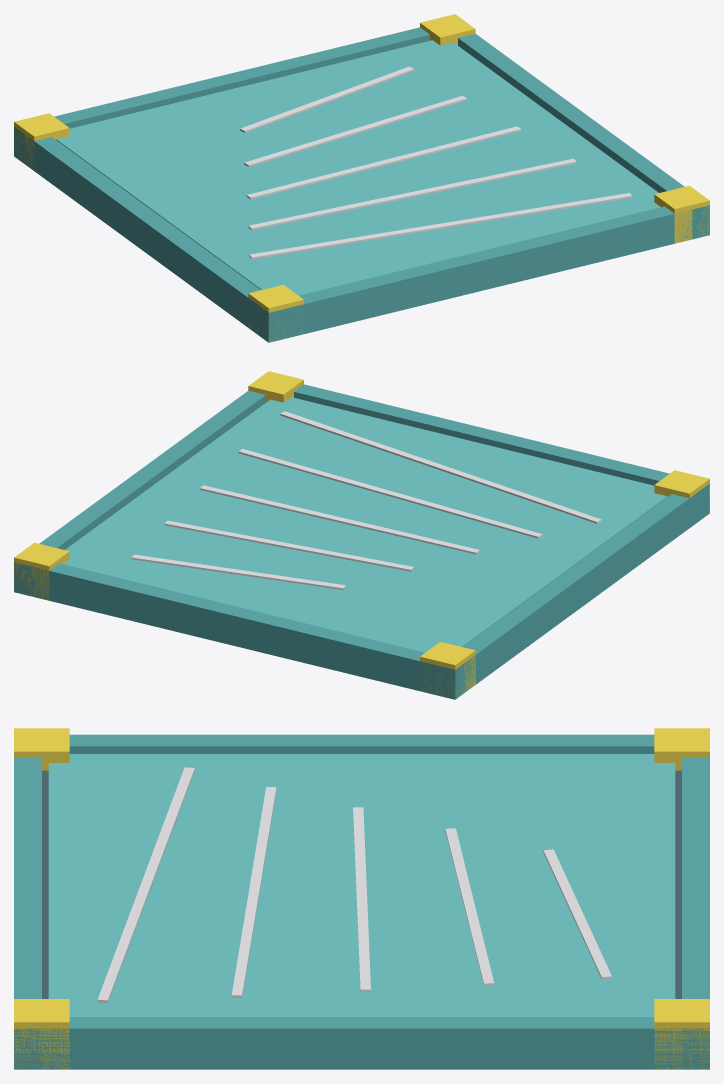
The model's file is ice_slide.glb.
3 renders of one model, top to bottom at view 1: azimuth 30°, elevation 25°; view 2: azimuth 150°, elevation 25°; view 3: azimuth 270°, elevation 25°, orthographic. The views are drawn at different scales.
Visible parts, largest first — view 1: ice_slide; view 2: ice_slide; view 3: ice_slide.
Part boxes in pixels (left/top/right/bottom): ice_slide: left=14, top=14, right=709, bottom=342; ice_slide: left=14, top=371, right=709, bottom=699; ice_slide: left=14, top=728, right=709, bottom=1069.
Size of the model in its own units: 2 by 0.15 by 2.
